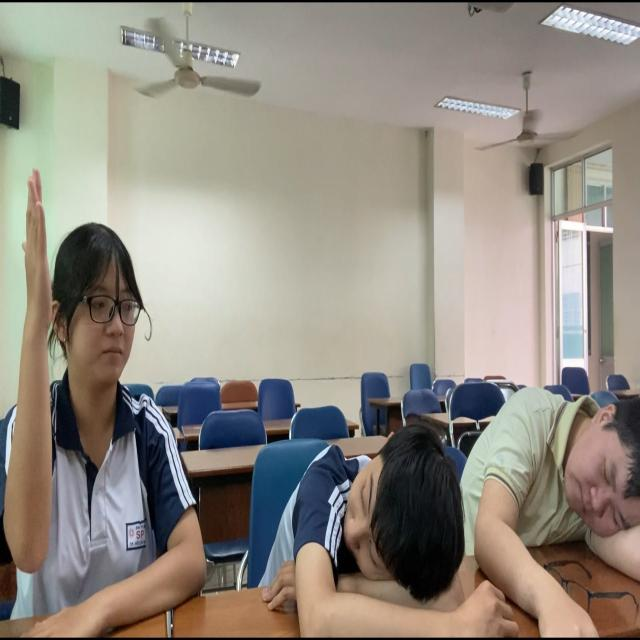raise_hand: (6, 160, 206, 637)
sleep: (256, 423, 514, 640), (455, 384, 640, 640)
